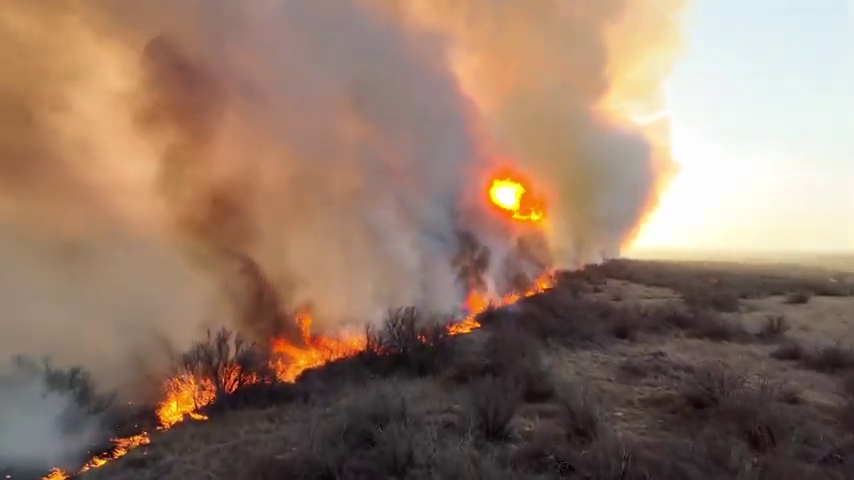forest_fire: (445, 272, 551, 335), (273, 312, 366, 381), (155, 374, 214, 430), (76, 431, 150, 472), (40, 468, 69, 479)
